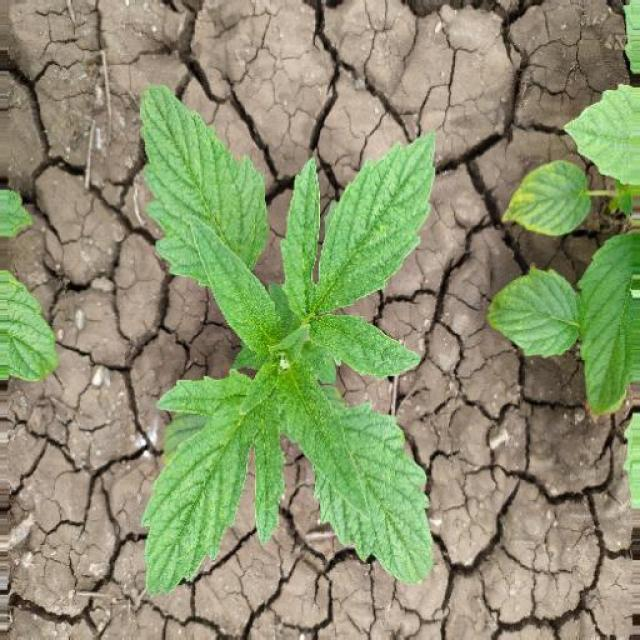crop: (114, 81, 448, 615)
